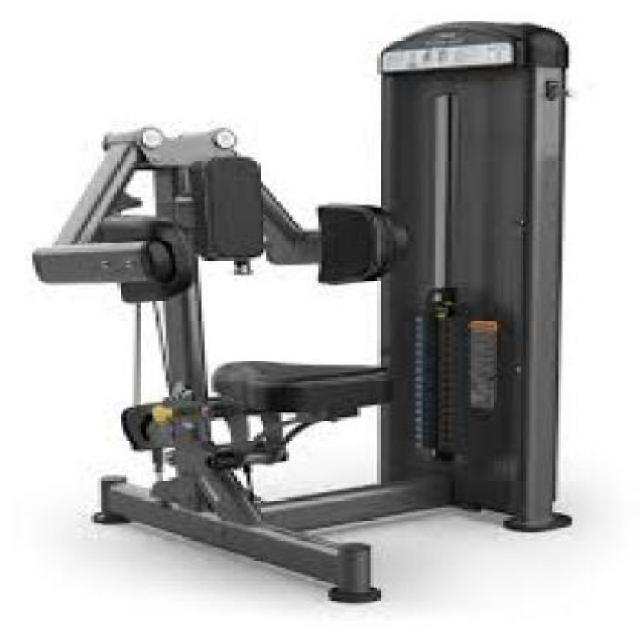lateral raises machine: (29, 126, 571, 603)
